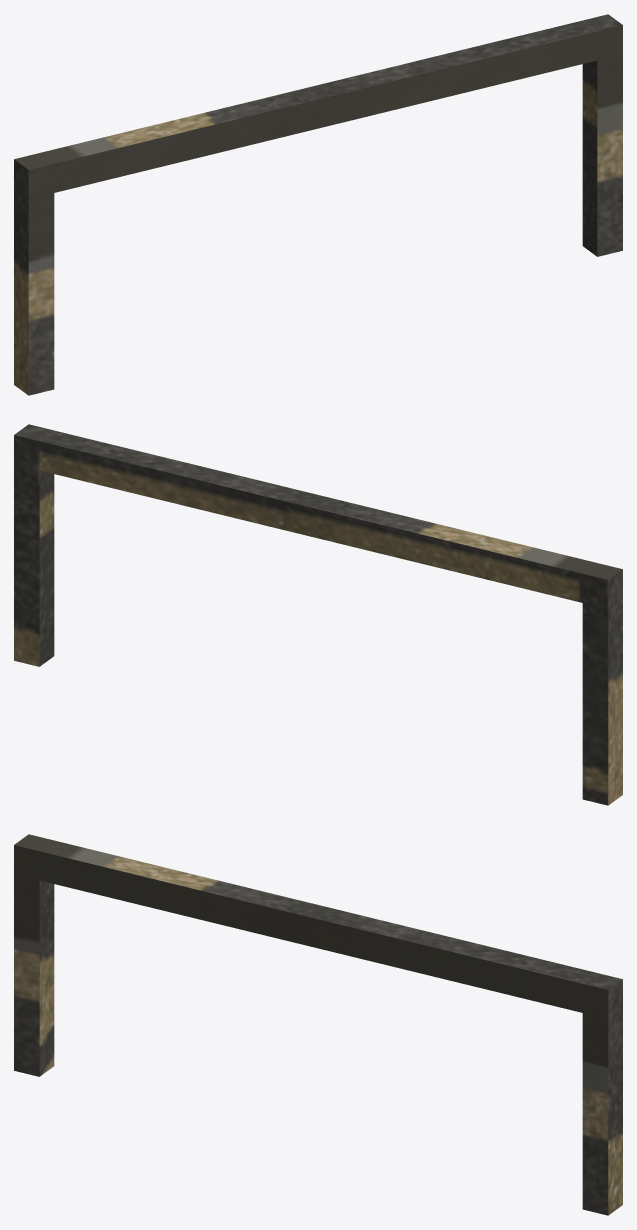
Rendered from Lateral_base.fbx.
3 views of the same model, one above another, from view 1: azimuth 30°, elevation 25°; view 2: azimuth 150°, elevation 25°; view 3: azimuth 330°, elevation 25° (orthographic).
Visible parts, largest first — view 1: Cube.003; view 2: Cube.003; view 3: Cube.003.
Part boxes in pixels (bbox=[...]): Cube.003: bbox=[14, 14, 622, 395]; Cube.003: bbox=[14, 424, 622, 805]; Cube.003: bbox=[14, 834, 622, 1215].
Bounding box in the file's own units: 2 × 0.7258 × 0.0859.
